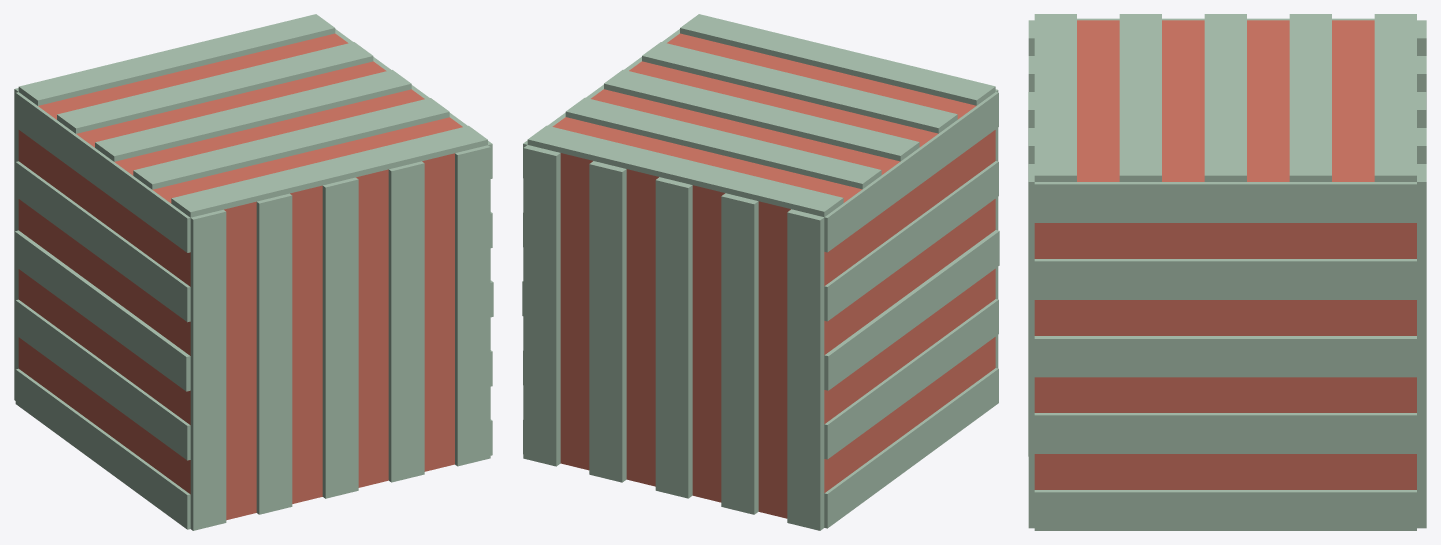
File: box_light.fbx
3 renders of one model, left to right at view 1: azimuth 30°, elevation 25°; view 2: azimuth 150°, elevation 25°; view 3: azimuth 270°, elevation 25°, orthographic. The views are drawn at different scales.
Visible parts, largest first — view 1: Cube; view 2: Cube; view 3: Cube.
Part boxes in pixels (left/top/right/bottom): Cube: left=14, top=14, right=493, bottom=530; Cube: left=522, top=14, right=999, bottom=530; Cube: left=1028, top=14, right=1426, bottom=530.
Bounding box in the file's own units: 206 × 204 × 208.
